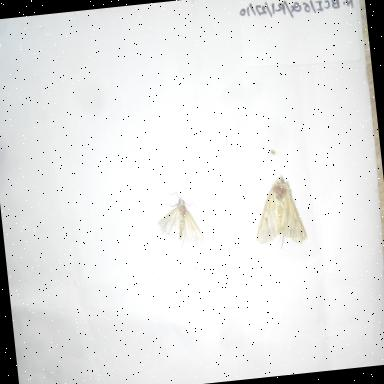abw: (247, 168, 312, 256), (152, 184, 212, 255)
